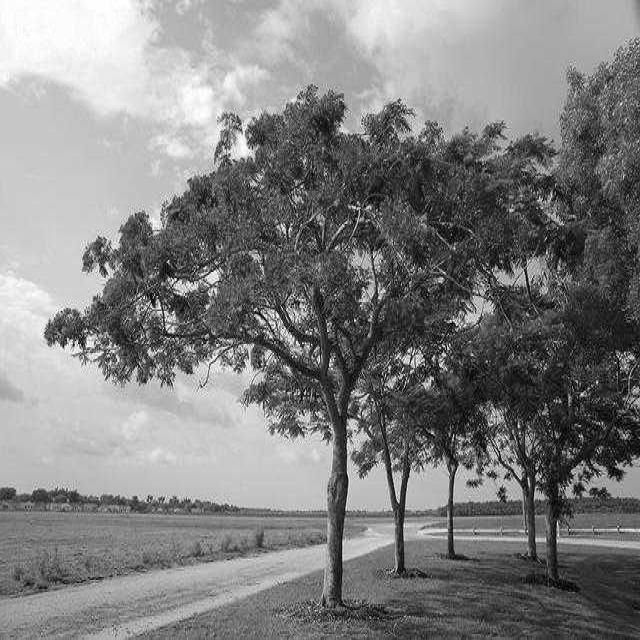Tree: (45, 86, 513, 608), (478, 137, 572, 578), (556, 39, 640, 477), (352, 348, 430, 576), (431, 326, 481, 558)
